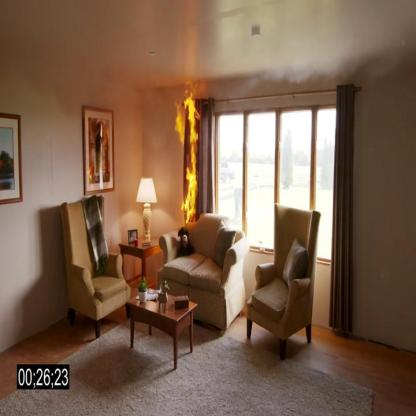fire: (173, 91, 202, 226)
